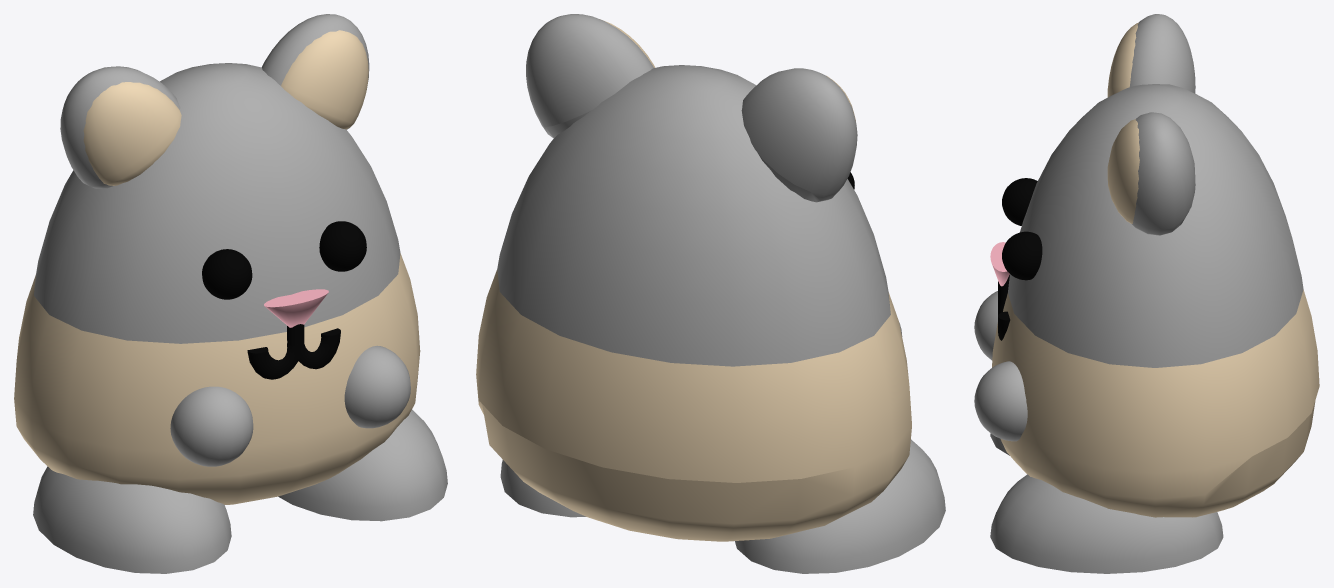
File: Hamster.fbx
3 renders of one model, left to right at view 1: azimuth 30°, elevation 25°; view 2: azimuth 150°, elevation 25°; view 3: azimuth 270°, elevation 25°, orthographic. The views are drawn at different scales.
Visible parts, largest first — view 1: pSphere1, pasted__pSphere1 (×2), pSphere2, pasted__pasted__pSphere1, pSphere3, pSphere4, pTorus1, pCone1; view 2: pasted__pSphere1 (×2), pSphere1, pSphere2; view 3: pasted__pSphere1 (×2), pSphere1, pSphere2, pSphere3, pasted__pasted__pSphere1, pSphere4, pCone1.
Boxes of the visible parts, x1,y1,x2,y2 form: pSphere1: [34, 63, 400, 343]; pasted__pSphere1 (×2): [14, 14, 420, 504]; pSphere2: [33, 409, 447, 573]; pasted__pasted__pSphere1: [83, 30, 368, 185]; pSphere3: [170, 345, 410, 466]; pSphere4: [202, 221, 366, 299]; pTorus1: [247, 328, 340, 379]; pCone1: [264, 289, 328, 327]; pasted__pSphere1 (×2): [476, 14, 911, 541]; pSphere1: [497, 65, 890, 366]; pSphere2: [500, 439, 945, 573]; pasted__pSphere1 (×2): [992, 14, 1319, 517]; pSphere1: [1008, 84, 1303, 367]; pSphere2: [990, 433, 1223, 573]; pSphere3: [974, 291, 1027, 441]; pasted__pasted__pSphere1: [1107, 22, 1139, 223]; pSphere4: [1002, 178, 1042, 280]; pCone1: [990, 242, 1009, 286].
Bounding box in the file's own units: 2.15 × 2.4 × 1.79.
